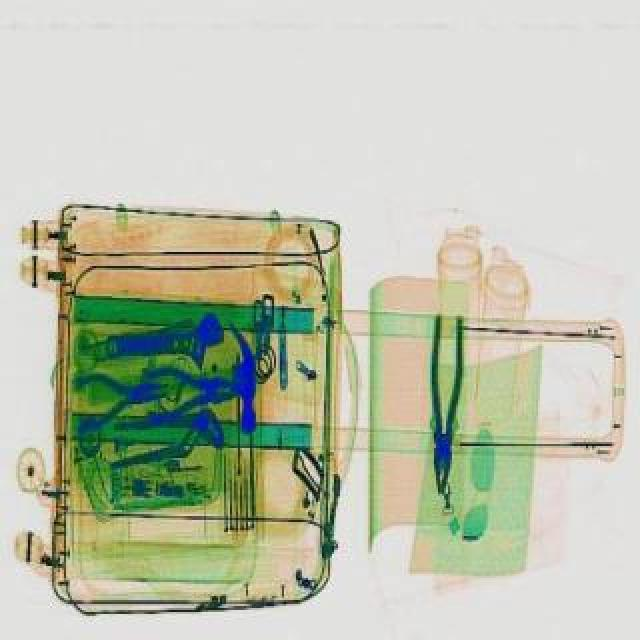scissors: (104, 318, 228, 380)
wrench: (428, 318, 470, 498), (72, 368, 176, 434), (146, 368, 242, 428)
